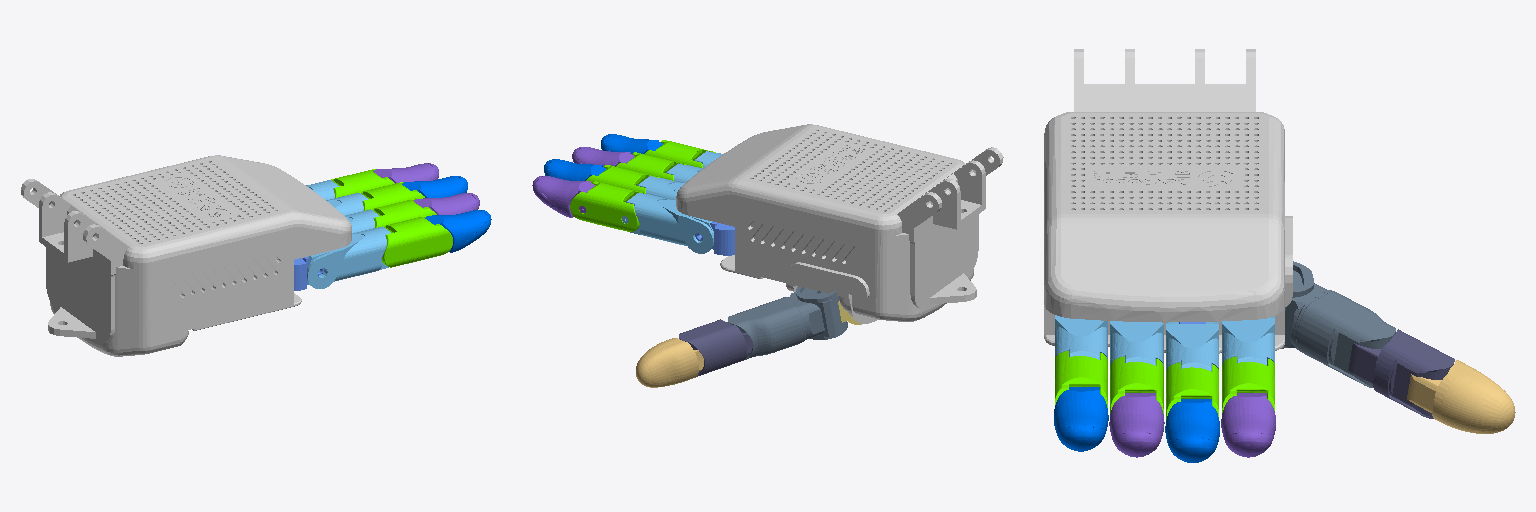
robot.urdf — marvin_021pro_right_hand:
<?xml version='1.0' encoding='utf-8'?>
<robot name="marvin_021pro_right_hand">
  <link name="right_hand_base" />
  <joint name="right_hand_base_to_palm" type="fixed">
    <origin xyz="0 0 0" rpy="0 1.5707963267948966 0" />
    <parent link="right_hand_base" />
    <child link="RFH1" />
  </joint>
  <link name="RFH1">
    <inertial>
      <origin xyz="-0.0281357631256852 0.00116684069530026 0.0629760763934342" rpy="0 0 0" />
      <mass value="0.552446471191886" />
      <inertia ixx="0.000978194028981453" ixy="-1.24773316782625E-06" ixz="6.92295259456392E-05" iyy="0.000800462955315249" iyz="1.60079814286245E-07" izz="0.000456980491604078" />
    </inertial>
    <visual>
      <origin xyz="0 0 0" rpy="0 0 0" />
      <geometry>
        <mesh filename="../meshes/RFH1.STL" />
      </geometry>
      <material name="">
        <color rgba="0.858823529411765 0.858823529411765 0.858823529411765 1" />
      </material>
    </visual>
    <collision>
      <origin xyz="0 0 0" rpy="0 0 0" />
      <geometry>
        <mesh filename="../meshes/RFH1.STL" />
      </geometry>
    </collision>
  </link>
  <joint name="r_f_jiont_1_1" type="revolute">
    <origin xyz="0.00100000000001333 0.0173445602785594 0.060947125774099" rpy="1.57079632679489 0.916297857296865 1.5707963267949" />
    <parent link="RFH1" />
    <child link="RH0_0" />
    <axis xyz="1 0 0" />
    <limit lower="0" upper="2" effort="0" velocity="0" />
    <dynamics damping="1" />
  </joint>
  <link name="RH0_0">
    <inertial>
      <origin xyz="0.0166000000000736 0.00521327808422134 0.000919241584205043" rpy="0 0 0" />
      <mass value="0.0505242867562445" />
      <inertia ixx="1.25329562191836E-06" ixy="-4.36350075817747E-18" ixz="5.49153628145379E-19" iyy="6.10012837060415E-07" iyz="-1.23147578251533E-07" izz="1.2867032180634E-06" />
    </inertial>
    <visual>
      <origin xyz="0 0 0" rpy="0 0 0" />
      <geometry>
        <mesh filename="../meshes/RH0_0.STL" />
      </geometry>
      <material name="">
        <color rgba="0.929411764705882 0.866666666666667 0.509803921568627 1" />
      </material>
    </visual>
    <collision>
      <origin xyz="0 0 0" rpy="0 0 0" />
      <geometry>
        <mesh filename="../meshes/RH0_0.STL" />
      </geometry>
    </collision>
  </link>
  <joint name="r_f_jiont_1_2" type="revolute">
    <origin xyz="0.0166000000000355 0.0160247874130681 0.0127767831775244" rpy="2.23270279024695 1.39626340159546 1.57079632679474" />
    <parent link="RH0_0" />
    <child link="RH0_1" />
    <axis xyz="-1 0 0" />
    <limit lower="0" upper="1.57" effort="0" velocity="0" />
    <dynamics damping="1" />
  </joint>
  <link name="RH0_1">
    <inertial>
      <origin xyz="0.00979982892691597 0.0148825069432138 -0.0104531402281481" rpy="0 0 0" />
      <mass value="0.0246804493675454" />
      <inertia ixx="7.69892174607913E-06" ixy="9.93084504641505E-11" ixz="-3.99626407624253E-11" iyy="3.89934571033323E-06" iyz="2.84877964497747E-06" izz="5.54920831564934E-06" />
    </inertial>
    <visual>
      <origin xyz="0 0 0" rpy="0 0 0" />
      <geometry>
        <mesh filename="../meshes/RH0_1.STL" />
      </geometry>
      <material name="">
        <color rgba="0.458823529411765 0.529411764705882 0.6 1" />
      </material>
    </visual>
    <collision>
      <origin xyz="0 0 0" rpy="0 0 0" />
      <geometry>
        <mesh filename="../meshes/RH0_1.STL" />
      </geometry>
    </collision>
  </link>
  <joint name="r_f_jiont_1_3" type="revolute">
    <origin xyz="0.00379999999999994 0.0339193422023141 -0.0264287386108816" rpy="0 0 0" />
    <parent link="RH0_1" />
    <child link="RH0_2" />
    <axis xyz="-1 0 0" />
    <limit lower="0" upper="1.57" effort="0" velocity="0" />
    <dynamics damping="1" />
  </joint>
  <link name="RH0_2">
    <inertial>
      <origin xyz="0.00600000918300941 0.0119040416459426 -0.00882205940717629" rpy="0 0 0" />
      <mass value="0.0122867535546083" />
      <inertia ixx="1.78095920550916E-06" ixy="1.11551343577217E-12" ixz="3.52216853538403E-12" iyy="1.09334395045213E-06" iyz="5.54213494723083E-07" izz="1.38544250374249E-06" />
    </inertial>
    <visual>
      <origin xyz="0 0 0" rpy="0 0 0" />
      <geometry>
        <mesh filename="../meshes/RH0_2.STL" />
      </geometry>
      <material name="">
        <color rgba="0.407843137254902 0.407843137254902 0.549019607843137 1" />
      </material>
    </visual>
    <collision>
      <origin xyz="0 0 0" rpy="0 0 0" />
      <geometry>
        <mesh filename="../meshes/RH0_2.STL" />
      </geometry>
    </collision>
  </link>
  <joint name="r_f_jiont_1_4" type="revolute">
    <origin xyz="0 0.0214559559977436 -0.0167177137259533" rpy="-3.14159265358979 0 3.14159265358979" />
    <parent link="RH0_2" />
    <child link="RH0_3" />
    <axis xyz="1 0 0" />
    <limit lower="0" upper="1.57" effort="0" velocity="0" />
    <dynamics damping="1" />
  </joint>
  <link name="RH0_3">
    <inertial>
      <origin xyz="-0.0060169458187958 0.0109867266017507 0.00765050833131975" rpy="0 0 0" />
      <mass value="0.0110115288248458" />
      <inertia ixx="1.47864901904124E-06" ixy="1.72439356503791E-09" ixz="6.25666978100137E-10" iyy="8.31608044645451E-07" iyz="-4.3001555573024E-07" izz="1.15050003492575E-06" />
    </inertial>
    <visual>
      <origin xyz="0 0 0" rpy="0 0 0" />
      <geometry>
        <mesh filename="../meshes/RH0_3.STL" />
      </geometry>
      <material name="">
        <color rgba="0.949019607843137 0.819607843137255 0.549019607843137 1" />
      </material>
    </visual>
    <collision>
      <origin xyz="0 0 0" rpy="0 0 0" />
      <geometry>
        <mesh filename="../meshes/RH0_3.STL" />
      </geometry>
    </collision>
  </link>
  <joint name="r_f_jiont_2_1" type="revolute">
    <origin xyz="-0.0107999999976446 0.0304500000002516 0.120779999999401" rpy="0 0 0" />
    <parent link="RFH1" />
    <child link="RH1_0" />
    <axis xyz="-1 0 0" />
    <limit lower="-0.1570796327" upper="0.4537856055" effort="0" velocity="0" />
    <dynamics damping="1" />
  </joint>
  <link name="RH1_0">
    <inertial>
      <origin xyz="-0.007234838569811 6.56575770701107E-05 0.00156067580355124" rpy="0 0 0" />
      <mass value="0.0038413206465803" />
      <inertia ixx="1.98166028972206E-07" ixy="-2.13073095087666E-11" ixz="8.42889212492412E-10" iyy="1.94693498412904E-07" iyz="-2.53219737360808E-09" izz="1.29265929749434E-07" />
    </inertial>
    <visual>
      <origin xyz="0 0 0" rpy="0 0 0" />
      <geometry>
        <mesh filename="../meshes/RH1_0.STL" />
      </geometry>
      <material name="">
        <color rgba="0.43921568627451 0.619607843137255 1 1" />
      </material>
    </visual>
    <collision>
      <origin xyz="0 0 0" rpy="0 0 0" />
      <geometry>
        <mesh filename="../meshes/RH1_0.STL" />
      </geometry>
    </collision>
  </link>
  <joint name="r_f_jiont_2_2" type="revolute">
    <origin xyz="-0.00715 0.00780000000000136 0.0115999999999988" rpy="-1.56219388225413 0 1.5707963267949" />
    <parent link="RH1_0" />
    <child link="RH1_1" />
    <axis xyz="1 0 0" />
    <limit lower="0" upper="1.57" effort="0" velocity="0" />
    <dynamics damping="1" />
  </joint>
  <link name="RH1_1">
    <inertial>
      <origin xyz="-0.0075795059779773 -0.0216787916735738 0.000842089314530448" rpy="0 0 0" />
      <mass value="0.0143435345187347" />
      <inertia ixx="3.16152534307448E-06" ixy="6.16874611332834E-08" ixz="1.81705527166432E-09" iyy="7.98400921147991E-07" iyz="2.51288330511977E-08" izz="3.19330964299394E-06" />
    </inertial>
    <visual>
      <origin xyz="0 0 0" rpy="0 0 0" />
      <geometry>
        <mesh filename="../meshes/RH1_1.STL" />
      </geometry>
      <material name="">
        <color rgba="0.517647058823529 0.8 0.976470588235294 1" />
      </material>
    </visual>
    <collision>
      <origin xyz="0 0 0" rpy="0 0 0" />
      <geometry>
        <mesh filename="../meshes/RH1_1.STL" />
      </geometry>
    </collision>
  </link>
  <joint name="r_f_jiont_2_3" type="revolute">
    <origin xyz="0.0015000000000005 -0.0429984089656923 0.000369900552980437" rpy="3.14159265358979 0 3.14159265358979" />
    <parent link="RH1_1" />
    <child link="RH1_2" />
    <axis xyz="-1 0 0" />
    <limit lower="0" upper="1.57" effort="0" velocity="0" />
    <dynamics damping="1" />
  </joint>
  <link name="RH1_2">
    <inertial>
      <origin xyz="0.0102511088803841 -0.0127505618783299 -0.00136023481961261" rpy="0 0 0" />
      <mass value="0.00665207707264815" />
      <inertia ixx="6.9861002701327E-07" ixy="-5.4748865203202E-09" ixz="-7.06950691821553E-09" iyy="4.2859404415312E-07" iyz="4.64797610367809E-09" izz="7.86770833894284E-07" />
    </inertial>
    <visual>
      <origin xyz="0 0 0" rpy="0 0 0" />
      <geometry>
        <mesh filename="../meshes/RH1_2.STL" />
      </geometry>
      <material name="">
        <color rgba="0.486274509803922 1 0 1" />
      </material>
    </visual>
    <collision>
      <origin xyz="0 0 0" rpy="0 0 0" />
      <geometry>
        <mesh filename="../meshes/RH1_2.STL" />
      </geometry>
    </collision>
  </link>
  <joint name="r_f_jiont_2_4" type="revolute">
    <origin xyz="0 -0.0249990749800533 -0.000215058461035097" rpy="0 0 0" />
    <parent link="RH1_2" />
    <child link="RH1_3" />
    <axis xyz="-1 0 0" />
    <limit lower="0" upper="1.57" effort="0" velocity="0" />
    <dynamics damping="1" />
  </joint>
  <link name="RH1_3">
    <inertial>
      <origin xyz="0.00894424348306067 -0.0126892891011749 -0.000480629933175135" rpy="0 0 0" />
      <mass value="0.00790882474447943" />
      <inertia ixx="5.99156455011656E-07" ixy="2.38113938135429E-08" ixz="3.42959463670849E-09" iyy="2.71611180603311E-07" iyz="-9.0460571339989E-08" izz="6.21776831045074E-07" />
    </inertial>
    <visual>
      <origin xyz="0 0 0" rpy="0 0 0" />
      <geometry>
        <mesh filename="../meshes/RH1_3.STL" />
      </geometry>
      <material name="">
        <color rgba="0.568627450980392 0.427450980392157 0.847058823529412 1" />
      </material>
    </visual>
    <collision>
      <origin xyz="0 0 0" rpy="0 0 0" />
      <geometry>
        <mesh filename="../meshes/RH1_3.STL" />
      </geometry>
    </collision>
  </link>
  <joint name="r_f_jiont_3_1" type="revolute">
    <origin xyz="-0.0104999999976446 0.0101500000002526 0.125779999999404" rpy="0 0 0" />
    <parent link="RFH1" />
    <child link="RH2_0" />
    <axis xyz="-1 0 0" />
    <limit lower="-0.4537856055" upper="0.4537856055" effort="0" velocity="0" />
    <dynamics damping="1" />
  </joint>
  <link name="RH2_0">
    <inertial>
      <origin xyz="-0.007534838569811 6.56575770699996E-05 0.00156067580355135" rpy="0 0 0" />
      <mass value="0.00384132064658031" />
      <inertia ixx="1.98166028972206E-07" ixy="-2.13073095087186E-11" ixz="8.42889212492435E-10" iyy="1.94693498412904E-07" iyz="-2.53219737360807E-09" izz="1.29265929749434E-07" />
    </inertial>
    <visual>
      <origin xyz="0 0 0" rpy="0 0 0" />
      <geometry>
        <mesh filename="../meshes/RH2_0.STL" />
      </geometry>
      <material name="">
        <color rgba="0.43921568627451 0.619607843137255 1 1" />
      </material>
    </visual>
    <collision>
      <origin xyz="0 0 0" rpy="0 0 0" />
      <geometry>
        <mesh filename="../meshes/RH2_0.STL" />
      </geometry>
    </collision>
  </link>
  <joint name="r_f_jiont_3_2" type="revolute">
    <origin xyz="-0.00744999999999994 0.00810000000000144 0.0115999999999987" rpy="-1.56219388225413 0 1.5707963267949" />
    <parent link="RH2_0" />
    <child link="RH2_1" />
    <axis xyz="1 0 0" />
    <limit lower="0" upper="1.57" effort="0" velocity="0" />
    <dynamics damping="1" />
  </joint>
  <link name="RH2_1">
    <inertial>
      <origin xyz="-0.00787950597797726 -0.0216787916735736 0.000842089314530439" rpy="0 0 0" />
      <mass value="0.0143435345187348" />
      <inertia ixx="3.1615253430745E-06" ixy="6.16874611332901E-08" ixz="1.81705527165972E-09" iyy="7.98400921147995E-07" iyz="2.5128833051196E-08" izz="3.19330964299395E-06" />
    </inertial>
    <visual>
      <origin xyz="0 0 0" rpy="0 0 0" />
      <geometry>
        <mesh filename="../meshes/RH2_1.STL" />
      </geometry>
      <material name="">
        <color rgba="0.517647058823529 0.8 0.976470588235294 1" />
      </material>
    </visual>
    <collision>
      <origin xyz="0 0 0" rpy="0 0 0" />
      <geometry>
        <mesh filename="../meshes/RH2_1.STL" />
      </geometry>
    </collision>
  </link>
  <joint name="r_f_jiont_3_3" type="revolute">
    <origin xyz="0.00120000000000042 -0.042998408965692 0.000369900552980502" rpy="3.14159265358979 0 3.14159265358979" />
    <parent link="RH2_1" />
    <child link="RH2_2" />
    <axis xyz="-1 0 0" />
    <limit lower="0" upper="1.57" effort="0" velocity="0" />
    <dynamics damping="1" />
  </joint>
  <link name="RH2_2">
    <inertial>
      <origin xyz="0.0102511088803846 -0.0127505618783303 -0.00136023481961269" rpy="0 0 0" />
      <mass value="0.00665207707264782" />
      <inertia ixx="6.9861002701324E-07" ixy="-5.474886520317E-09" ixz="-7.06950691821764E-09" iyy="4.28594044153091E-07" iyz="4.64797610368523E-09" izz="7.86770833894263E-07" />
    </inertial>
    <visual>
      <origin xyz="0 0 0" rpy="0 0 0" />
      <geometry>
        <mesh filename="../meshes/RH2_2.STL" />
      </geometry>
      <material name="">
        <color rgba="0.486274509803922 1 0 1" />
      </material>
    </visual>
    <collision>
      <origin xyz="0 0 0" rpy="0 0 0" />
      <geometry>
        <mesh filename="../meshes/RH2_2.STL" />
      </geometry>
    </collision>
  </link>
  <joint name="r_f_jiont_3_4" type="revolute">
    <origin xyz="0 -0.0249990749800535 -0.000215058461035098" rpy="0 0 0" />
    <parent link="RH2_2" />
    <child link="RH2_3" />
    <axis xyz="-1 0 0" />
    <limit lower="0" upper="1.57" effort="0" velocity="0" />
    <dynamics damping="1" />
  </joint>
  <link name="RH2_3">
    <inertial>
      <origin xyz="0.00894424348306022 -0.0126892891011752 -0.00048062993317541" rpy="0 0 0" />
      <mass value="0.00790882474447909" />
      <inertia ixx="5.99156455011723E-07" ixy="2.38113938135363E-08" ixz="3.42959463670613E-09" iyy="2.7161118060329E-07" iyz="-9.04605713400071E-08" izz="6.21776831045122E-07" />
    </inertial>
    <visual>
      <origin xyz="0 0 0" rpy="0 0 0" />
      <geometry>
        <mesh filename="../meshes/RH2_3.STL" />
      </geometry>
      <material name="">
        <color rgba="0 0.498039215686275 1 1" />
      </material>
    </visual>
    <collision>
      <origin xyz="0 0 0" rpy="0 0 0" />
      <geometry>
        <mesh filename="../meshes/RH2_3.STL" />
      </geometry>
    </collision>
  </link>
  <joint name="r_f_jiont_4_1" type="revolute">
    <origin xyz="-0.0108000000000406 -0.010149999999749 0.120779999999404" rpy="0 0 0" />
    <parent link="RFH1" />
    <child link="RH3_0" />
    <axis xyz="-1 0 0" />
    <limit lower="-0.4537856055" upper="0.1570796327" effort="0" velocity="0" />
    <dynamics damping="1" />
  </joint>
  <link name="RH3_0">
    <inertial>
      <origin xyz="-0.007234838569811 6.56575770699996E-05 0.00156067580355135" rpy="0 0 0" />
      <mass value="0.0038413206465803" />
      <inertia ixx="1.98166028972206E-07" ixy="-2.13073095088009E-11" ixz="8.42889212492423E-10" iyy="1.94693498412904E-07" iyz="-2.53219737360805E-09" izz="1.29265929749434E-07" />
    </inertial>
    <visual>
      <origin xyz="0 0 0" rpy="0 0 0" />
      <geometry>
        <mesh filename="../meshes/RH3_0.STL" />
      </geometry>
      <material name="">
        <color rgba="0.43921568627451 0.619607843137255 1 1" />
      </material>
    </visual>
    <collision>
      <origin xyz="0 0 0" rpy="0 0 0" />
      <geometry>
        <mesh filename="../meshes/RH3_0.STL" />
      </geometry>
    </collision>
  </link>
  <joint name="r_f_jiont_4_2" type="revolute">
    <origin xyz="-0.00715000000000002 -0.00964999999999827 0.0116000000000016" rpy="-1.57939877133567 0 -1.5707963267949" />
    <parent link="RH3_0" />
    <child link="RH3_1" />
    <axis xyz="-1 0 0" />
    <limit lower="0" upper="1.57" effort="0" velocity="0" />
    <dynamics damping="1" />
  </joint>
  <link name="RH3_1">
    <inertial>
      <origin xyz="-0.00987049402202245 -0.0216787916735736 -0.000842089314530382" rpy="0 0 0" />
      <mass value="0.014343534518735" />
      <inertia ixx="3.16152534307452E-06" ixy="-6.16874611332859E-08" ixz="1.81705527165745E-09" iyy="7.98400921148012E-07" iyz="-2.51288330512017E-08" izz="3.19330964299396E-06" />
    </inertial>
    <visual>
      <origin xyz="0 0 0" rpy="0 0 0" />
      <geometry>
        <mesh filename="../meshes/RH3_1.STL" />
      </geometry>
      <material name="">
        <color rgba="0.517647058823529 0.8 0.976470588235294 1" />
      </material>
    </visual>
    <collision>
      <origin xyz="0 0 0" rpy="0 0 0" />
      <geometry>
        <mesh filename="../meshes/RH3_1.STL" />
      </geometry>
    </collision>
  </link>
  <joint name="r_f_jiont_4_3" type="revolute">
    <origin xyz="-0.00325000000000009 -0.042998408965692 -0.000369900552980412" rpy="0 0 0" />
    <parent link="RH3_1" />
    <child link="RH3_2" />
    <axis xyz="-1 0 0" />
    <limit lower="0" upper="1.57" effort="0" velocity="0" />
    <dynamics damping="1" />
  </joint>
  <link name="RH3_2">
    <inertial>
      <origin xyz="-0.005448891119616 -0.0127505618783299 -0.00136023481961262" rpy="0 0 0" />
      <mass value="0.00665207707264848" />
      <inertia ixx="6.98610027013307E-07" ixy="-5.47488652031187E-09" ixz="-7.06950691822215E-09" iyy="4.28594044153143E-07" iyz="4.64797610367446E-09" izz="7.86770833894327E-07" />
    </inertial>
    <visual>
      <origin xyz="0 0 0" rpy="0 0 0" />
      <geometry>
        <mesh filename="../meshes/RH3_2.STL" />
      </geometry>
      <material name="">
        <color rgba="0.486274509803922 1 0 1" />
      </material>
    </visual>
    <collision>
      <origin xyz="0 0 0" rpy="0 0 0" />
      <geometry>
        <mesh filename="../meshes/RH3_2.STL" />
      </geometry>
    </collision>
  </link>
  <joint name="r_f_jiont_4_4" type="revolute">
    <origin xyz="0 -0.0249990749800537 -0.000215058461035103" rpy="0 0 0" />
    <parent link="RH3_2" />
    <child link="RH3_3" />
    <axis xyz="-1 0 0" />
    <limit lower="0" upper="1.57" effort="0" velocity="0" />
    <dynamics damping="1" />
  </joint>
  <link name="RH3_3">
    <inertial>
      <origin xyz="-0.00675575651693383 -0.0126892891011756 -0.000480629933175331" rpy="0 0 0" />
      <mass value="0.00790882474447917" />
      <inertia ixx="5.99156455011702E-07" ixy="2.38113938135456E-08" ixz="3.4295946366982E-09" iyy="2.71611180603293E-07" iyz="-9.04605713400077E-08" izz="6.21776831045106E-07" />
    </inertial>
    <visual>
      <origin xyz="0 0 0" rpy="0 0 0" />
      <geometry>
        <mesh filename="../meshes/RH3_3.STL" />
      </geometry>
      <material name="">
        <color rgba="0.568627450980392 0.427450980392157 0.847058823529412 1" />
      </material>
    </visual>
    <collision>
      <origin xyz="0 0 0" rpy="0 0 0" />
      <geometry>
        <mesh filename="../meshes/RH3_3.STL" />
      </geometry>
    </collision>
  </link>
  <joint name="r_f_jiont_5_1" type="revolute">
    <origin xyz="-0.0104999999976326 -0.030449999999749 0.115779999999404" rpy="0 0 0" />
    <parent link="RFH1" />
    <child link="RH4_0" />
    <axis xyz="-1 0 0" />
    <limit lower="-0.4537856055" upper="0.0872664626" effort="0" velocity="0" />
    <dynamics damping="1" />
  </joint>
  <link name="RH4_0">
    <inertial>
      <origin xyz="-0.00753483856981099 6.56575770698886E-05 0.00156067580355124" rpy="0 0 0" />
      <mass value="0.00384132064658029" />
      <inertia ixx="1.98166028972206E-07" ixy="-2.13073095086841E-11" ixz="8.42889212492437E-10" iyy="1.94693498412904E-07" iyz="-2.53219737360807E-09" izz="1.29265929749434E-07" />
    </inertial>
    <visual>
      <origin xyz="0 0 0" rpy="0 0 0" />
      <geometry>
        <mesh filename="../meshes/RH4_0.STL" />
      </geometry>
      <material name="">
        <color rgba="0.43921568627451 0.619607843137255 1 1" />
      </material>
    </visual>
    <collision>
      <origin xyz="0 0 0" rpy="0 0 0" />
      <geometry>
        <mesh filename="../meshes/RH4_0.STL" />
      </geometry>
    </collision>
  </link>
  <joint name="r_f_jiont_5_2" type="revolute">
    <origin xyz="-0.00745000000000002 -0.00964999999999827 0.0116000000000016" rpy="-1.57939877133567 0 -1.5707963267949" />
    <parent link="RH4_0" />
    <child link="RH4_1" />
    <axis xyz="-1 0 0" />
    <limit lower="0" upper="1.57" effort="0" velocity="0" />
    <dynamics damping="1" />
  </joint>
  <link name="RH4_1">
    <inertial>
      <origin xyz="-0.00987049402202234 -0.0216787916735736 -0.000842089314530478" rpy="0 0 0" />
      <mass value="0.0143435345187349" />
      <inertia ixx="3.16152534307451E-06" ixy="-6.16874611332772E-08" ixz="1.81705527166269E-09" iyy="7.98400921148003E-07" iyz="-2.51288330512058E-08" izz="3.19330964299396E-06" />
    </inertial>
    <visual>
      <origin xyz="0 0 0" rpy="0 0 0" />
      <geometry>
        <mesh filename="../meshes/RH4_1.STL" />
      </geometry>
      <material name="">
        <color rgba="0.517647058823529 0.8 0.976470588235294 1" />
      </material>
    </visual>
    <collision>
      <origin xyz="0 0 0" rpy="0 0 0" />
      <geometry>
        <mesh filename="../meshes/RH4_1.STL" />
      </geometry>
    </collision>
  </link>
  <joint name="r_f_jiont_5_3" type="revolute">
    <origin xyz="-0.00325000000000009 -0.042998408965692 -0.000369900552980412" rpy="0 0 0" />
    <parent link="RH4_1" />
    <child link="RH4_2" />
    <axis xyz="-1 0 0" />
    <limit lower="0" upper="1.57" effort="0" velocity="0" />
    <dynamics damping="1" />
  </joint>
  <link name="RH4_2">
    <inertial>
      <origin xyz="-0.00544889111961566 -0.0127505618783306 -0.00136023481961266" rpy="0 0 0" />
      <mass value="0.00665207707264783" />
      <inertia ixx="6.98610027013238E-07" ixy="-5.47488652032205E-09" ixz="-7.06950691821903E-09" iyy="4.28594044153093E-07" iyz="4.64797610368322E-09" izz="7.8677083389426E-07" />
    </inertial>
    <visual>
      <origin xyz="0 0 0" rpy="0 0 0" />
      <geometry>
        <mesh filename="../meshes/RH4_2.STL" />
      </geometry>
      <material name="">
        <color rgba="0.486274509803922 1 0 1" />
      </material>
    </visual>
    <collision>
      <origin xyz="0 0 0" rpy="0 0 0" />
      <geometry>
        <mesh filename="../meshes/RH4_2.STL" />
      </geometry>
    </collision>
  </link>
  <joint name="r_f_jiont_5_4" type="revolute">
    <origin xyz="0 -0.0249990749800537 -0.000215058461035103" rpy="0 0 0" />
    <parent link="RH4_2" />
    <child link="RH4_3" />
    <axis xyz="-1 0 0" />
    <limit lower="0" upper="1.57" effort="0" velocity="0" />
    <dynamics damping="1" />
  </joint>
  <link name="RH4_3">
    <inertial>
      <origin xyz="-0.00675575651693416 -0.0126892891011738 -0.000480629933175396" rpy="0 0 0" />
      <mass value="0.00790882474447871" />
      <inertia ixx="5.9915645501167E-07" ixy="2.38113938135365E-08" ixz="3.4295946366966E-09" iyy="2.71611180603289E-07" iyz="-9.04605713399949E-08" izz="6.21776831045076E-07" />
    </inertial>
    <visual>
      <origin xyz="0 0 0" rpy="0 0 0" />
      <geometry>
        <mesh filename="../meshes/RH4_3.STL" />
      </geometry>
      <material name="">
        <color rgba="0 0.498039215686275 1 1" />
      </material>
    </visual>
    <collision>
      <origin xyz="0 0 0" rpy="0 0 0" />
      <geometry>
        <mesh filename="../meshes/RH4_3.STL" />
      </geometry>
    </collision>
  </link>
</robot>

--- Facts derived from the render (not from the file) ---
The picture shows the robot from 3 angles, left to right: view 1: azimuth 30°, elevation 25°; view 2: azimuth 150°, elevation 25°; view 3: azimuth 270°, elevation 25°; orthographic projection.
Robot: marvin_021pro_right_hand — 22 links, 21 joints (20 revolute, 1 fixed); root link right_hand_base; default pose: all joints at 0.
Links seen in each view (by area): view 1: RFH1, RH4_1, RH4_2, RH4_3, RH3_3, RH2_3, RH3_2, RH2_2, RH1_2, RH1_3, RH2_1; view 2: RFH1, RH0_1, RH1_1, RH0_3, RH0_2, RH1_2, RH1_3, RH2_3, RH2_2, RH4_2, RH3_2, RH3_3 (+3 smaller); view 3: RFH1, RH0_1, RH0_3, RH0_2, RH4_3, RH3_3, RH1_3, RH2_3, RH2_1, RH1_1, RH3_1, RH4_1 (+4 smaller).
Boxes of the visible links, box(x1,y1,x2,y2) form: RFH1: box(21, 155, 351, 356); RH4_1: box(307, 226, 390, 288); RH4_2: box(382, 215, 452, 267); RH4_3: box(425, 210, 491, 252); RH3_3: box(414, 193, 479, 214); RH2_3: box(402, 176, 467, 197); RH3_2: box(371, 198, 436, 227); RH2_2: box(359, 182, 424, 210); RH1_2: box(331, 169, 394, 197); RH1_3: box(373, 163, 438, 183); RH2_1: box(326, 193, 367, 215); RFH1: box(676, 124, 1003, 323); RH0_1: box(728, 286, 847, 359); RH1_1: box(622, 193, 713, 253); RH0_3: box(636, 338, 703, 387); RH0_2: box(679, 319, 752, 376); RH1_2: box(570, 181, 645, 231); RH1_3: box(532, 176, 595, 217); RH2_3: box(544, 159, 605, 180); RH2_2: box(586, 165, 659, 192); RH4_2: box(645, 140, 715, 167); RH3_2: box(616, 152, 685, 180); RH3_3: box(572, 147, 634, 166); RFH1: box(1044, 49, 1292, 353); RH0_1: box(1281, 261, 1395, 387); RH0_3: box(1407, 360, 1515, 433); RH0_2: box(1348, 329, 1454, 418); RH4_3: box(1054, 387, 1108, 451); RH3_3: box(1109, 393, 1164, 457); RH1_3: box(1221, 393, 1275, 457); RH2_3: box(1165, 399, 1219, 462); RH2_1: box(1166, 322, 1218, 371); RH1_1: box(1222, 316, 1274, 365); RH3_1: box(1110, 321, 1163, 365); RH4_1: box(1055, 315, 1107, 359).
Size in the robot's own frame: 0.2467 by 0.1711 by 0.1003 metres.
Meshes: 21 distinct files referenced, 21 mesh visuals loaded (21 binary STL).
